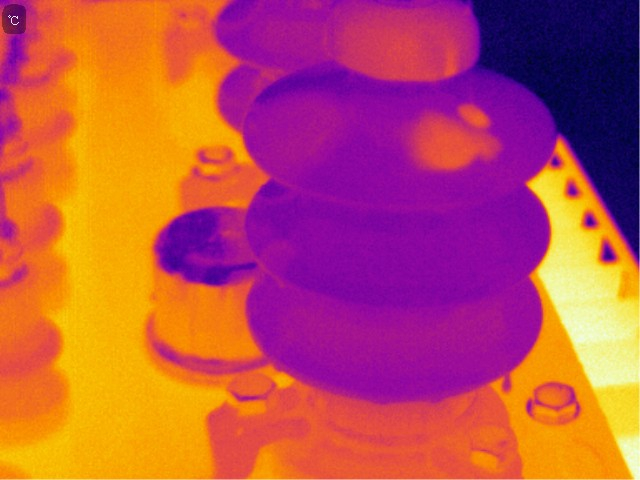Oil: (407, 98, 511, 180), (350, 16, 466, 82), (252, 96, 339, 164), (260, 237, 302, 290), (271, 165, 305, 197), (260, 193, 299, 211), (497, 365, 518, 397)
